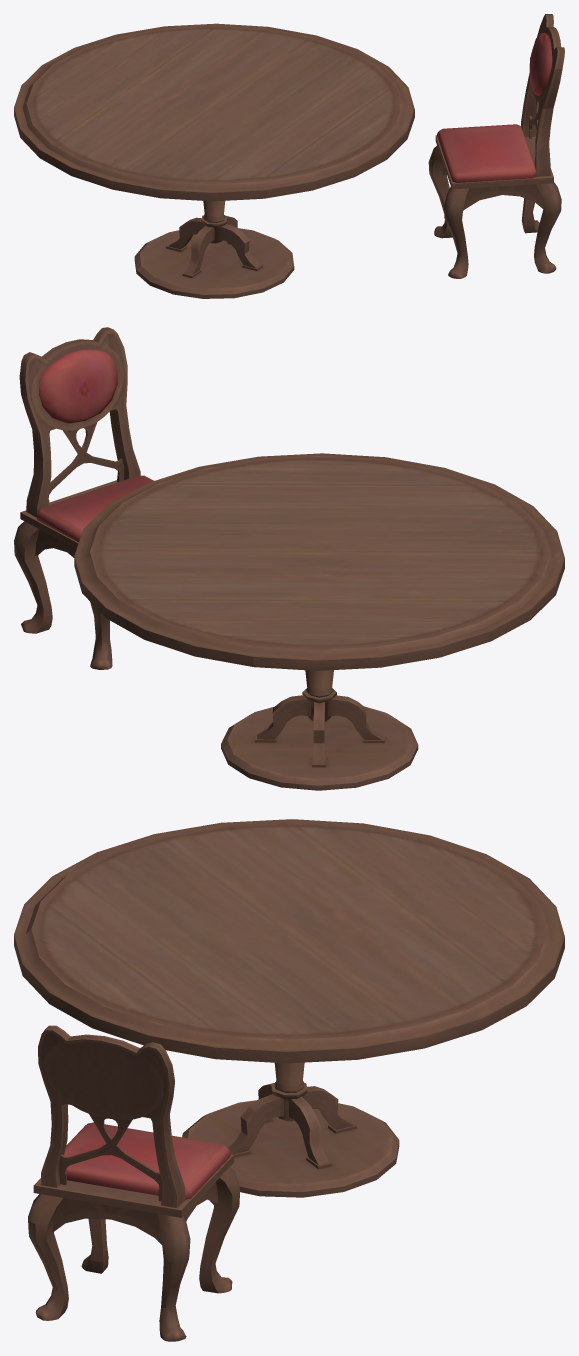
3 renders of one model, top to bottom at view 1: azimuth 30°, elevation 25°; view 2: azimuth 150°, elevation 25°; view 3: azimuth 270°, elevation 25°, orthographic. The views are drawn at different scales.
Visible parts, largest first — view 1: 00E_Indoor_Md_Prop_Cabinet_01.004, 00E_Indoor_Md_Prop_Cabinet_01.001; view 2: 00E_Indoor_Md_Prop_Cabinet_01.004, 00E_Indoor_Md_Prop_Cabinet_01.001; view 3: 00E_Indoor_Md_Prop_Cabinet_01.004, 00E_Indoor_Md_Prop_Cabinet_01.001.
Part boxes in pixels (<box>): 00E_Indoor_Md_Prop_Cabinet_01.004: <box>14,23,414,298</box>; 00E_Indoor_Md_Prop_Cabinet_01.001: <box>428,14,564,278</box>; 00E_Indoor_Md_Prop_Cabinet_01.004: <box>74,453,564,790</box>; 00E_Indoor_Md_Prop_Cabinet_01.001: <box>14,327,153,669</box>; 00E_Indoor_Md_Prop_Cabinet_01.004: <box>14,819,564,1197</box>; 00E_Indoor_Md_Prop_Cabinet_01.001: <box>28,1025,240,1341</box>.
Bounding box in the file's own units: 293 × 131 × 220.
Materials: 1 (1 with a texture image).
